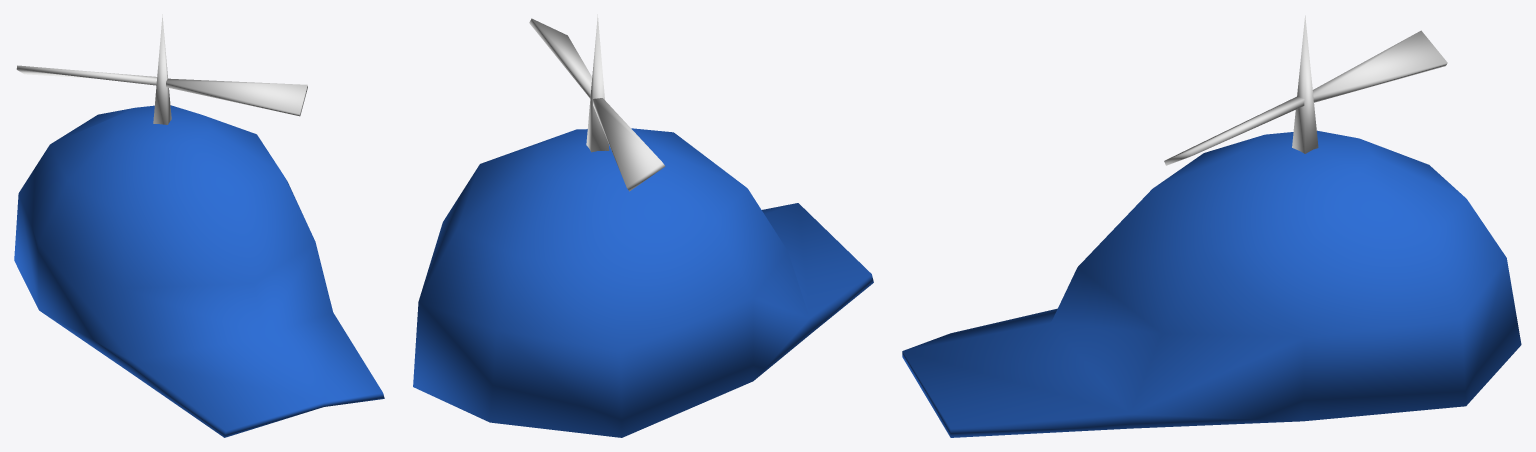
Rendered from hat.fbx.
3 renders of one model, left to right at view 1: azimuth 30°, elevation 25°; view 2: azimuth 150°, elevation 25°; view 3: azimuth 270°, elevation 25°, orthographic. The views are drawn at different scales.
Parts seen in each view (by area): view 1: Hat, Blade, Cone; view 2: Hat, Blade, Cone; view 3: Hat, Blade, Cone.
Part boxes in pixels (bbox=[...]): Hat: bbox=[14, 105, 384, 437]; Blade: bbox=[16, 65, 307, 116]; Cone: bbox=[153, 14, 171, 124]; Hat: bbox=[413, 128, 873, 437]; Blade: bbox=[529, 18, 665, 191]; Cone: bbox=[586, 14, 609, 152]; Hat: bbox=[902, 130, 1521, 437]; Blade: bbox=[1164, 30, 1447, 165]; Cone: bbox=[1292, 15, 1318, 153].
Bounding box in the file's own units: 68.16 × 78.43 × 117.
